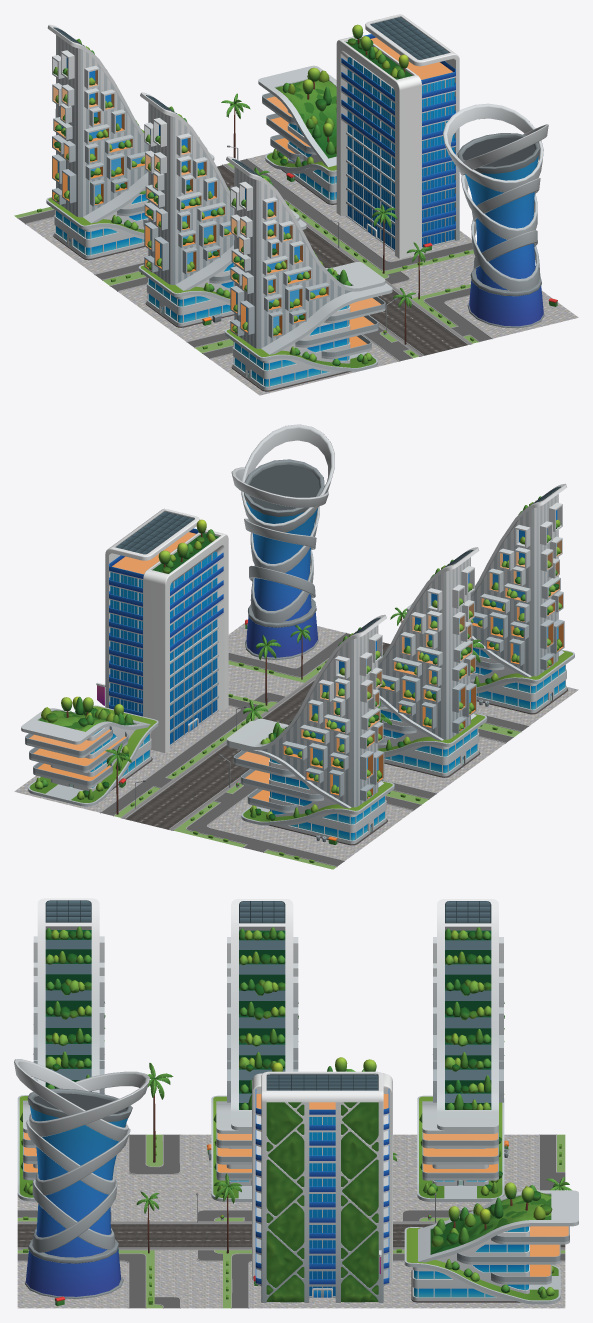
The model's file is city.glb.
3 renders of one model, top to bottom at view 1: azimuth 30°, elevation 25°; view 2: azimuth 150°, elevation 25°; view 3: azimuth 270°, elevation 25°, orthographic. The views are drawn at different scales.
Parts seen in each view (by area): view 1: City, Road; view 2: City, Road; view 3: City, Road.
Part boxes in pixels (<box>): City: <box>14,14,578,395</box>; Road: <box>217,165,471,356</box>; City: <box>14,424,578,869</box>; Road: <box>121,642,390,830</box>; City: <box>14,898,578,1308</box>; Road: <box>17,1224,565,1247</box>.
Size of the model in its own units: 90.09 by 57.49 by 124.
6 materials, 4 textured.
